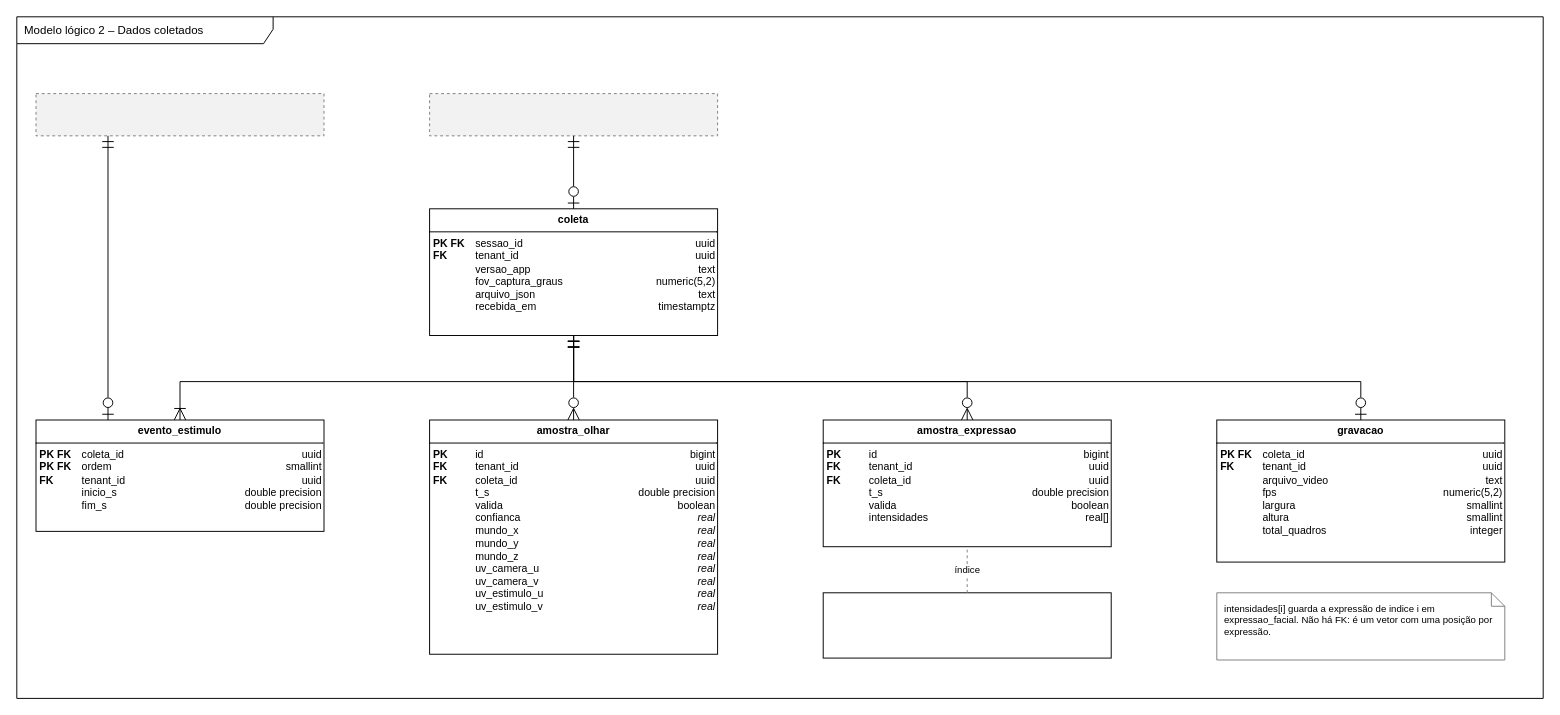
Some shapes in this 1560 by 715 pixel diagram are drawn without their labels. Each missing label, with the box of its shape:
expressao_facial PK indice smallint UK nome text: (822, 592, 1111, 658)
item_sessao (página 1): (35, 93, 324, 136)
sessao (página 1): (429, 93, 718, 136)
